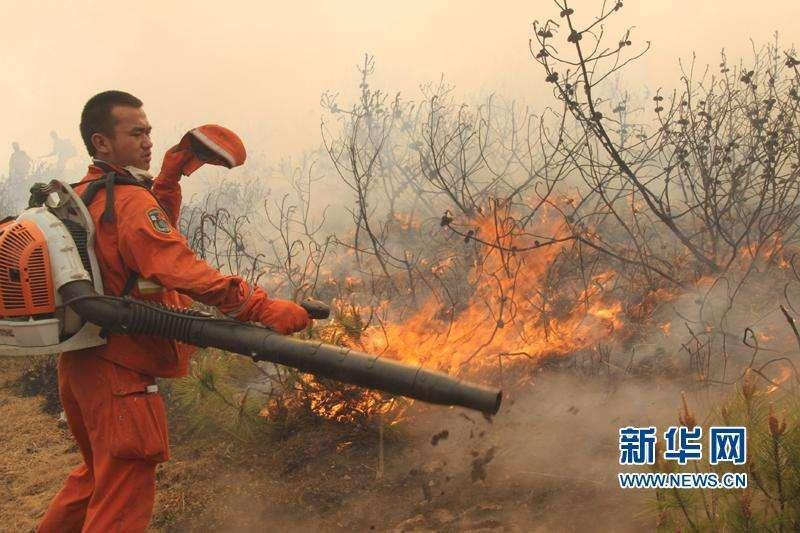fire: (271, 191, 633, 422), (726, 221, 789, 268), (747, 340, 790, 397)
